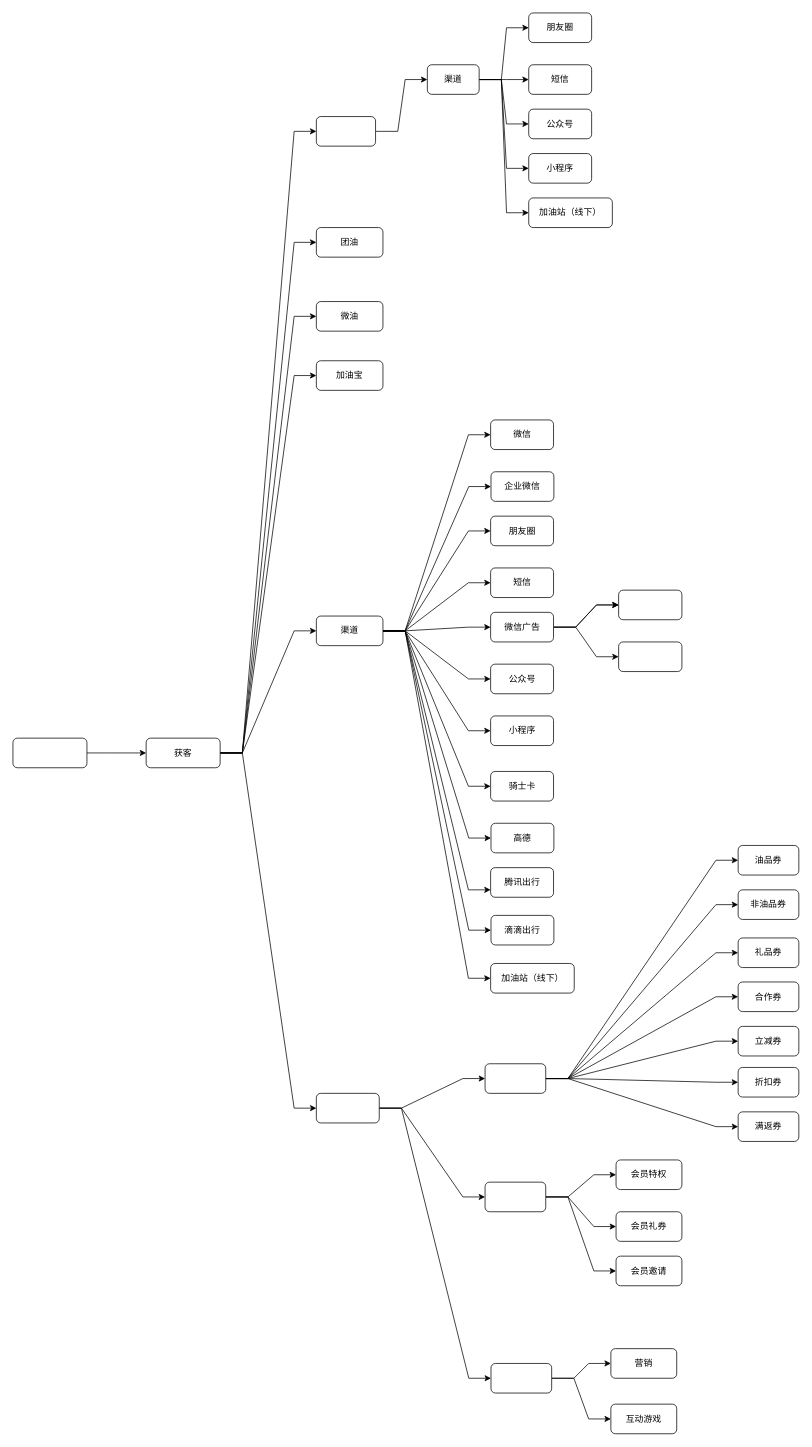
Image size: 812x1447. Some labels were removed from this diagram. The centre of each missing label's shape, as x and y in pixels:
"SCRM" belongs at [49,752].
"优惠券" belongs at [515,1078].
"会员" belongs at [515,1196].
"小程序广告" belongs at [650,656].
"智慧油客" belongs at [346,131].
"朋友圈广告" belongs at [650,604].
"营销模板" belongs at [521,1378].
"落地页方式" belongs at [347,1108].
